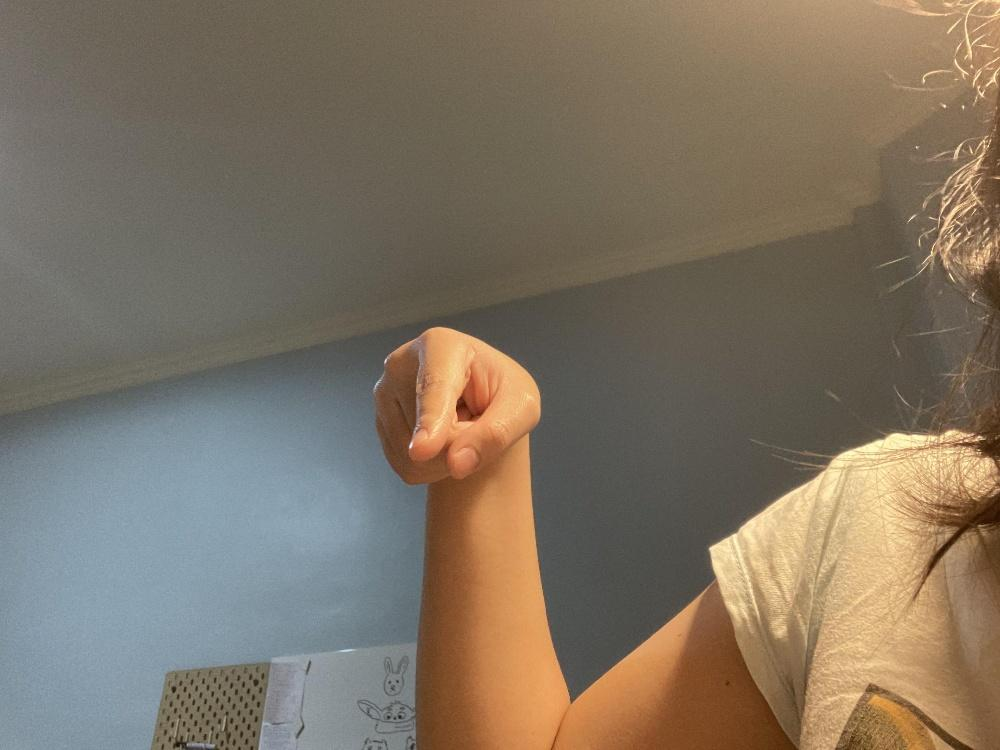z: (372, 325, 540, 484)
